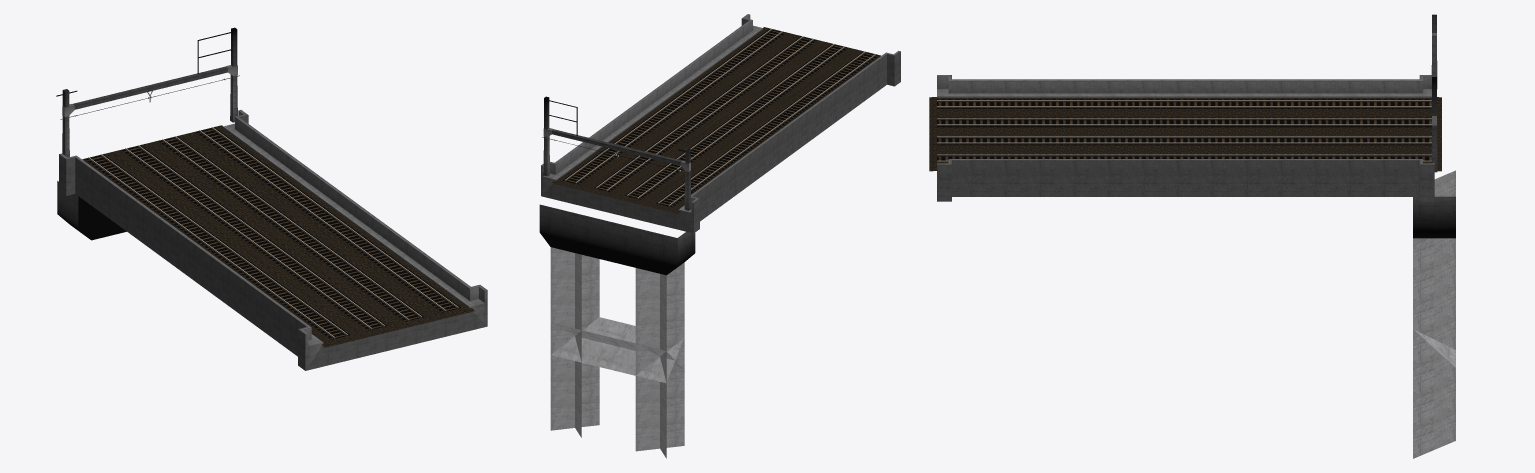
File: AMB_4RAIL.glb
3 renders of one model, left to right at view 1: azimuth 30°, elevation 25°; view 2: azimuth 150°, elevation 25°; view 3: azimuth 270°, elevation 25°, orthographic. The views are drawn at different scales.
Visible parts, largest first — view 1: Rail; view 2: Rail; view 3: Rail.
Boxes of the visible parts, x1,y1,x2,y2 form: Rail: [56, 27, 487, 370]; Rail: [539, 14, 900, 458]; Rail: [929, 14, 1455, 458].
Bounding box in the file's own units: 64.96 × 129 × 178.
Materials: 10 (9 with a texture image).
